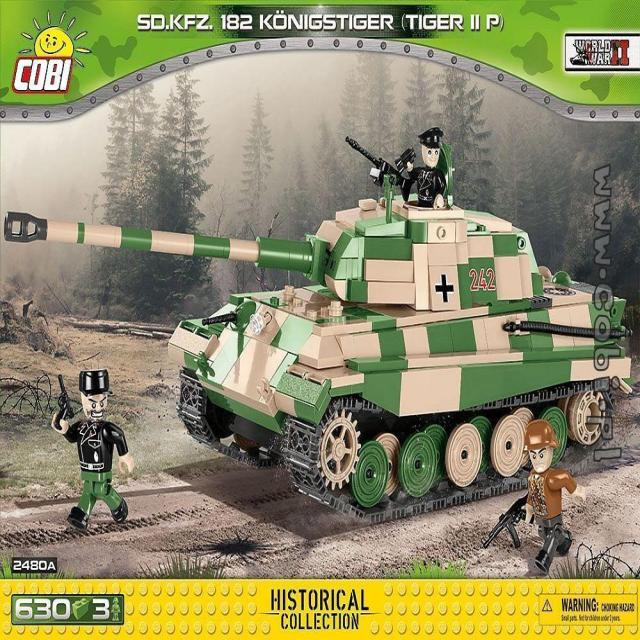Tanks: (4, 179, 623, 510)
